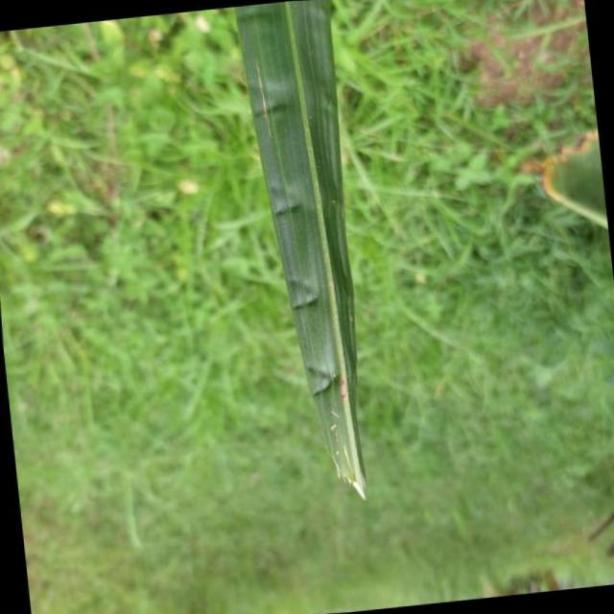Boron: (243, 0, 374, 499)
